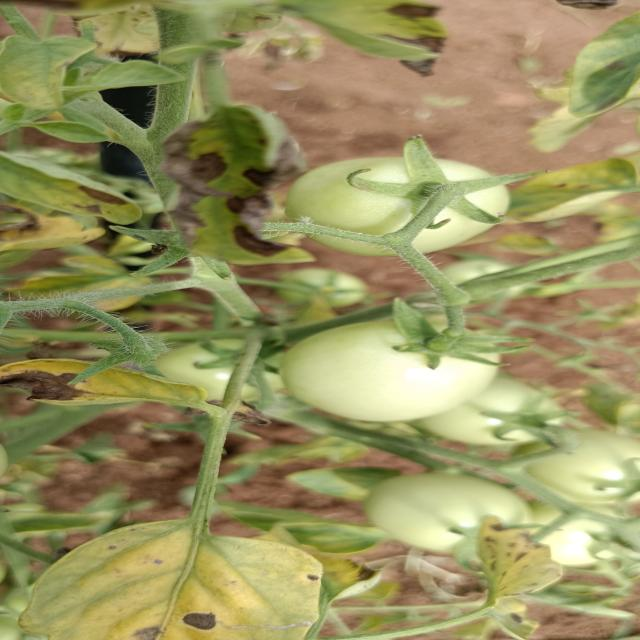tomato_early blight: (0, 519, 353, 640), (147, 93, 328, 275), (453, 513, 572, 640), (286, 0, 454, 78), (0, 356, 220, 414), (2, 151, 154, 233), (509, 150, 640, 228)
